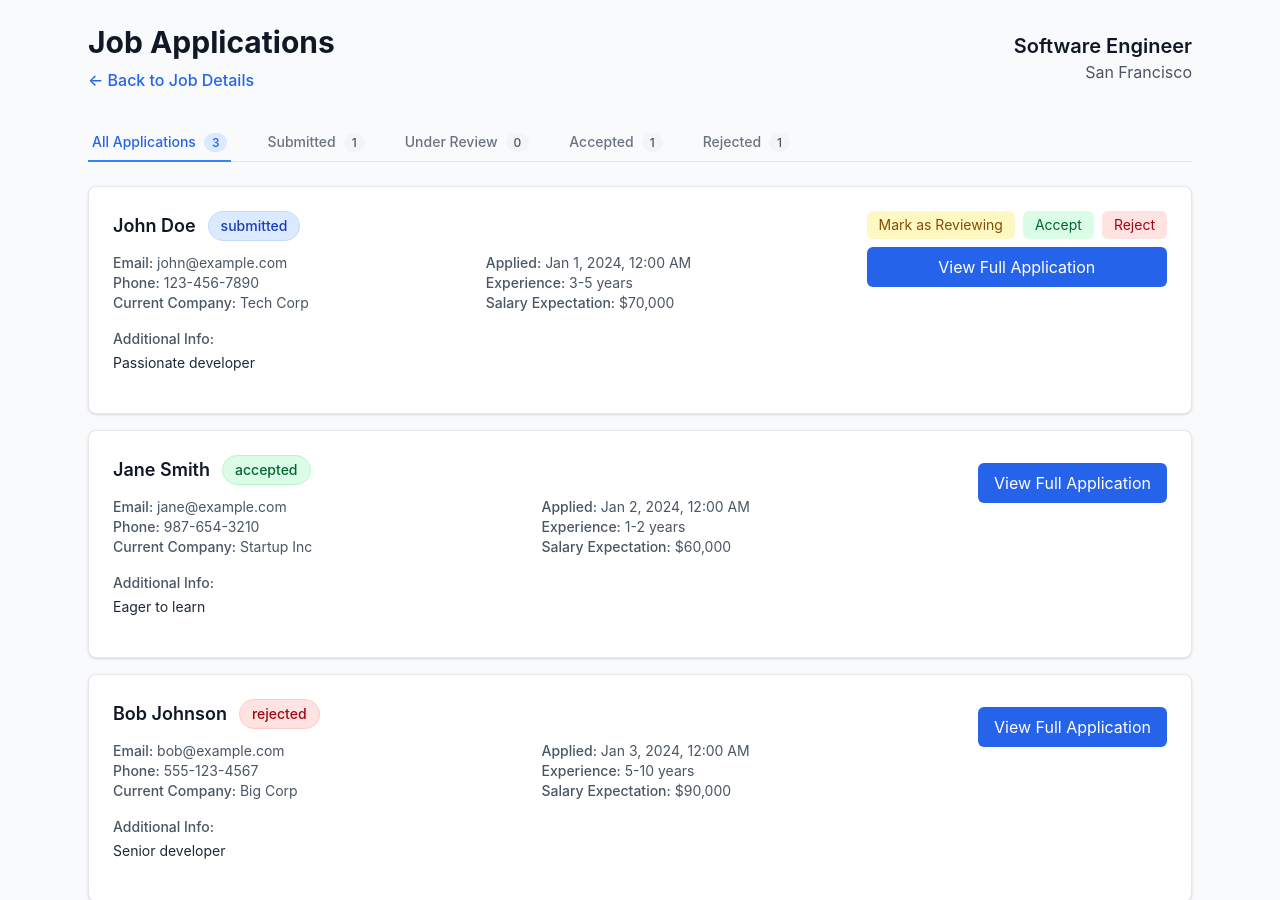
Test case: JobApplications › filters applications by status when tab is clicked
Expected: the button "All Applications3" is shown, [88, 124, 231, 162]
Click on Submitted tab
Click the button "Submitted1": (316, 143) [263, 124, 369, 162]
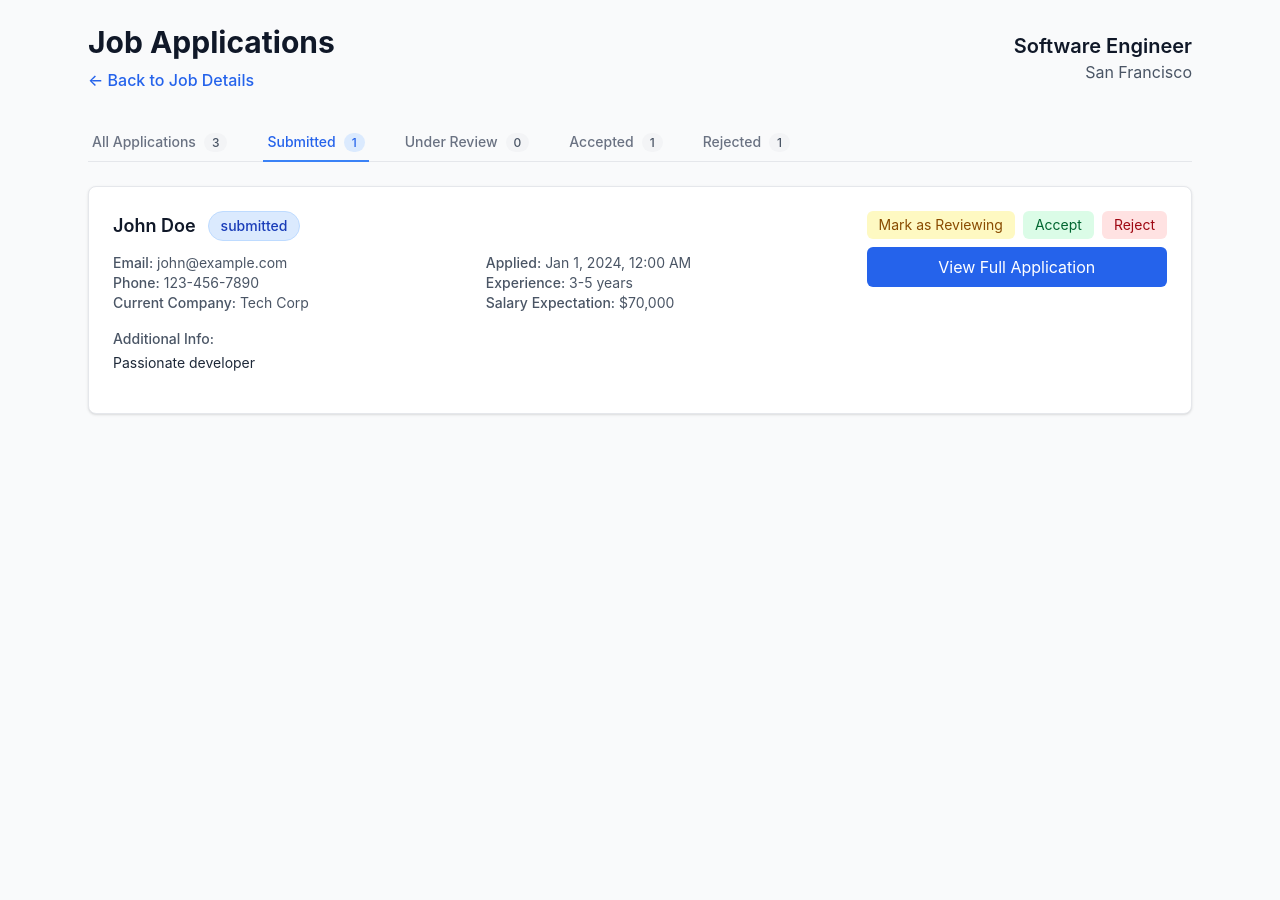
Expected: the heading "John Doe" is shown, [113, 212, 196, 240]
Expected: the heading "Jane Smith" is gone
Expected: the heading "Bob Johnson" is gone
